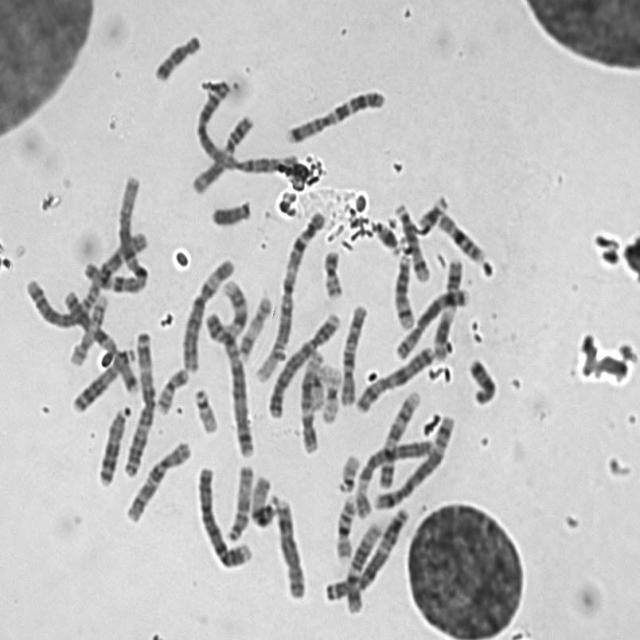A1: (252, 203, 328, 384), (73, 173, 168, 301)
A2: (19, 220, 151, 330), (191, 78, 308, 180)
A3: (320, 499, 412, 604), (118, 322, 158, 478)
B4: (262, 304, 342, 421), (191, 458, 253, 570)
B5: (368, 406, 458, 511), (200, 304, 256, 458)
C10: (120, 433, 192, 525), (334, 297, 370, 407)
C11: (184, 106, 256, 195), (428, 249, 466, 363)
C12: (340, 515, 384, 613), (294, 342, 326, 455)
C6: (175, 250, 237, 374), (351, 432, 437, 518)
C7: (58, 282, 140, 394), (280, 81, 388, 145)
C8: (388, 278, 469, 362), (268, 490, 308, 601)
C9: (374, 382, 423, 491), (213, 272, 250, 344)
D13: (67, 341, 138, 415), (92, 397, 132, 488)
D14: (389, 196, 432, 284), (387, 246, 418, 332)
D15: (220, 458, 254, 542), (245, 468, 278, 529)
E16: (431, 204, 488, 264), (330, 489, 358, 562)
E17: (64, 290, 110, 368), (233, 288, 274, 361)
E18: (147, 26, 204, 83), (463, 350, 499, 407)
F19: (315, 356, 345, 425), (302, 362, 324, 411)
F20: (150, 359, 190, 416), (317, 242, 345, 300)
G21: (410, 186, 450, 235), (366, 212, 403, 255)
G22: (188, 379, 220, 435), (333, 446, 362, 494)
X: (349, 338, 436, 414)
Y: (205, 193, 252, 228)
